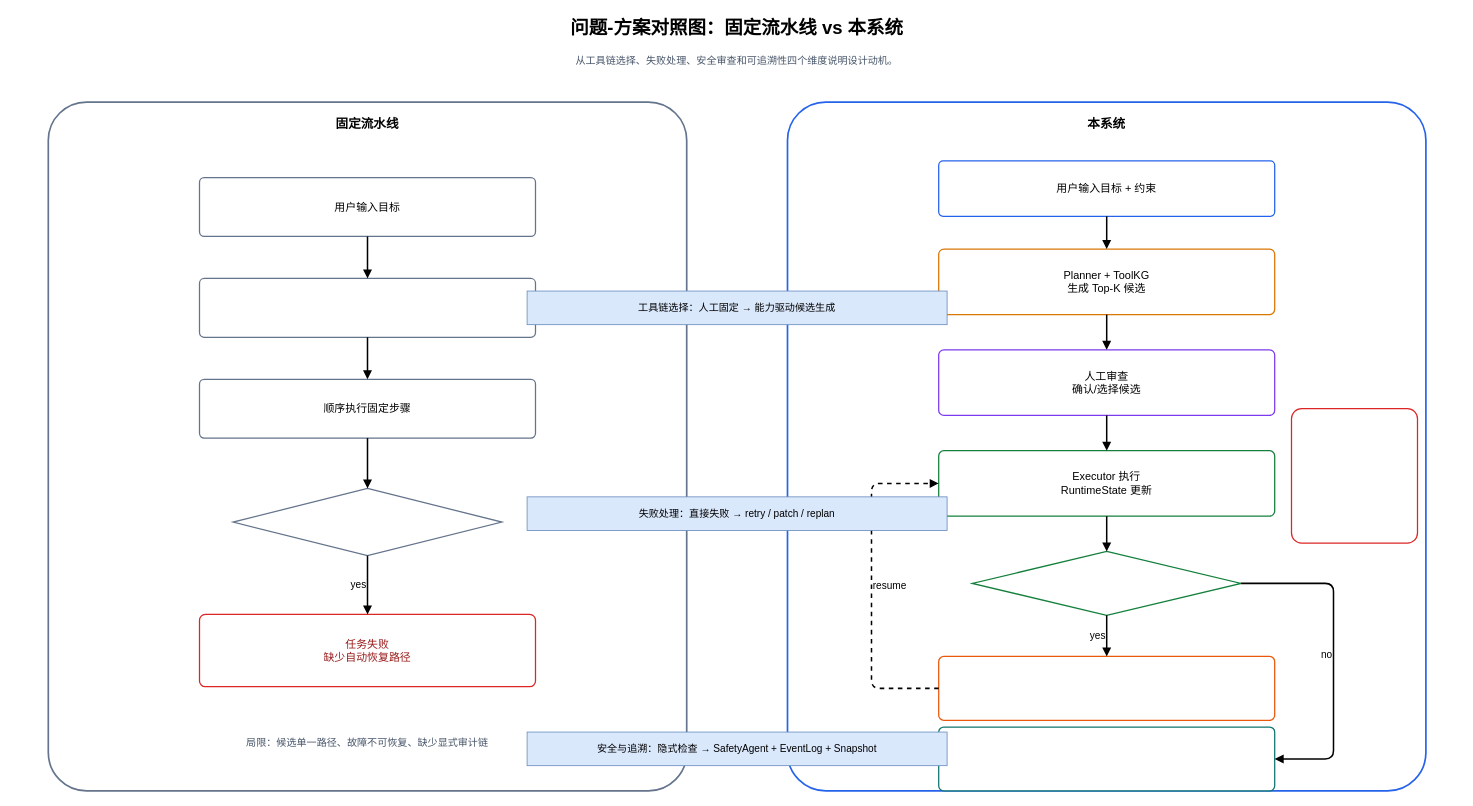
This 1473x806 diagram has some shape labels left out. Each missing label, with the centre of its shape:
DesignResult + EventLog + Snapshot 形成可追溯审计链: [1106,758]
retry → patch → replan 分层恢复: [1106,688]
SafetyAgent 全程审查: [1354,475]
人工或脚本选定工具链: [367,307]
失败？: [1106,583]
步骤失败？: [367,521]
